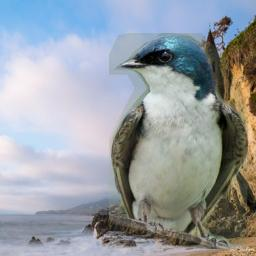Swallow: (109, 33, 248, 249)
